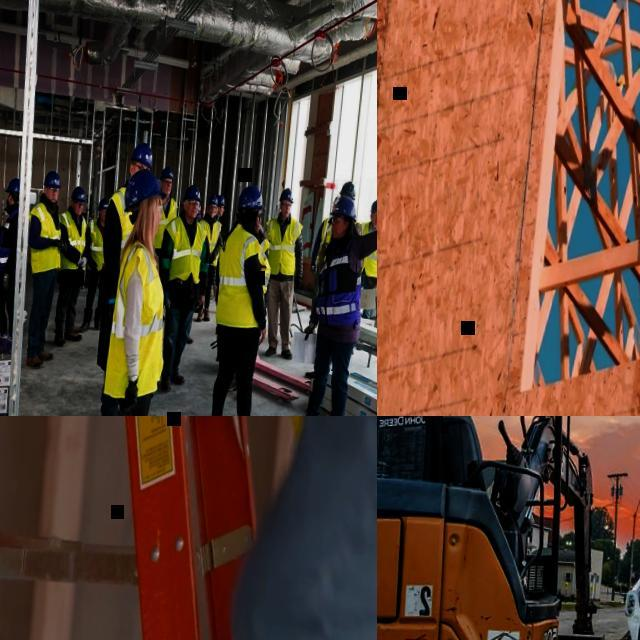helmet: (122, 167, 168, 216), (236, 183, 268, 211), (328, 194, 358, 222), (128, 140, 156, 169), (182, 183, 204, 204), (43, 169, 63, 188), (339, 180, 357, 200), (70, 185, 88, 202), (278, 186, 294, 204), (158, 166, 175, 182), (4, 176, 20, 193), (96, 196, 110, 212), (207, 193, 219, 206), (216, 194, 227, 206), (370, 198, 377, 212), (332, 193, 340, 204), (85, 192, 93, 200), (197, 203, 201, 214)
vest: (104, 236, 175, 400), (213, 222, 274, 330), (312, 230, 368, 328), (160, 213, 208, 283), (103, 182, 140, 270), (24, 202, 66, 276), (265, 416, 377, 440), (261, 214, 304, 276), (56, 208, 90, 273), (324, 218, 364, 264), (82, 216, 108, 272), (153, 196, 179, 250), (195, 217, 222, 266), (0, 205, 18, 274), (356, 220, 377, 275), (314, 215, 331, 274), (215, 220, 222, 256), (258, 236, 270, 252), (84, 202, 94, 220)
